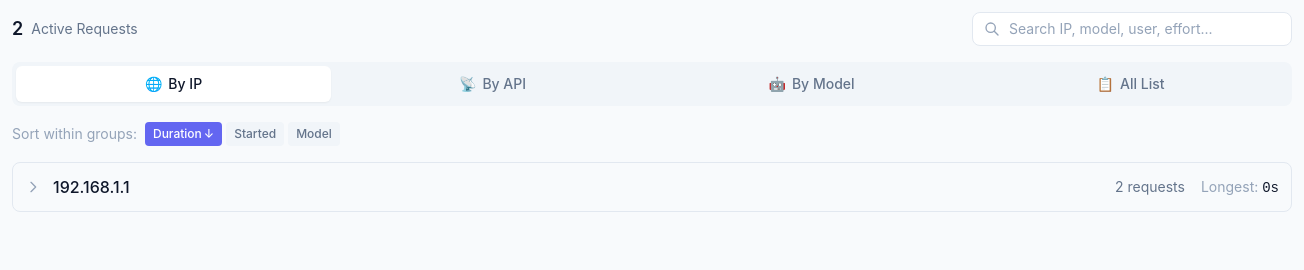
LiveRequestsPanel - Search › filters active requests by requested reasoning effort
The width and height of the screenshot is (1304, 270).
Type "high" into the field with placeholder "Search IP, model, user, effort..." at (1132, 29), box x1=972 y1=12 x2=1292 y2=46
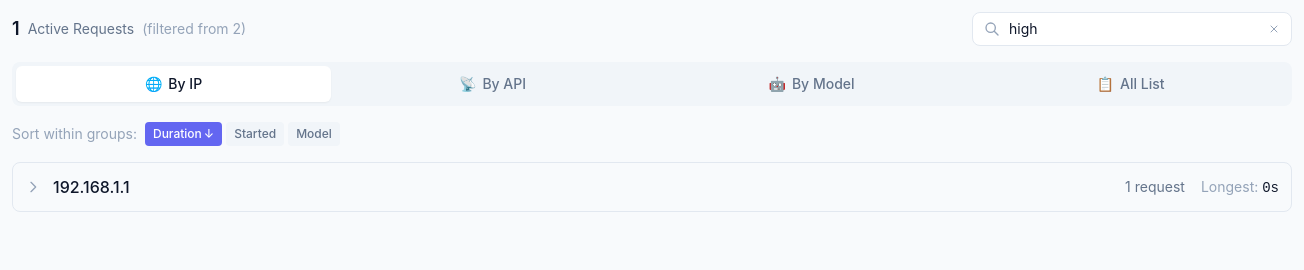
Click the text "192.168.1.1" at (91, 187), box x1=53 y1=175 x2=130 y2=199
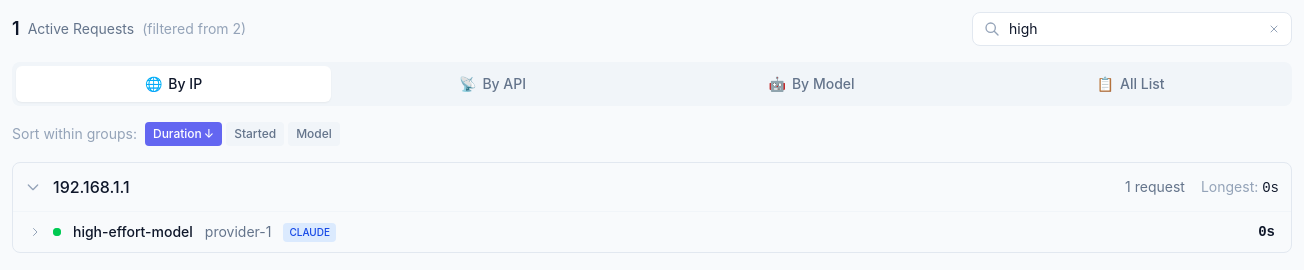
Expected: the text "high-effort-model" is shown, x1=73 y1=222 x2=193 y2=242
